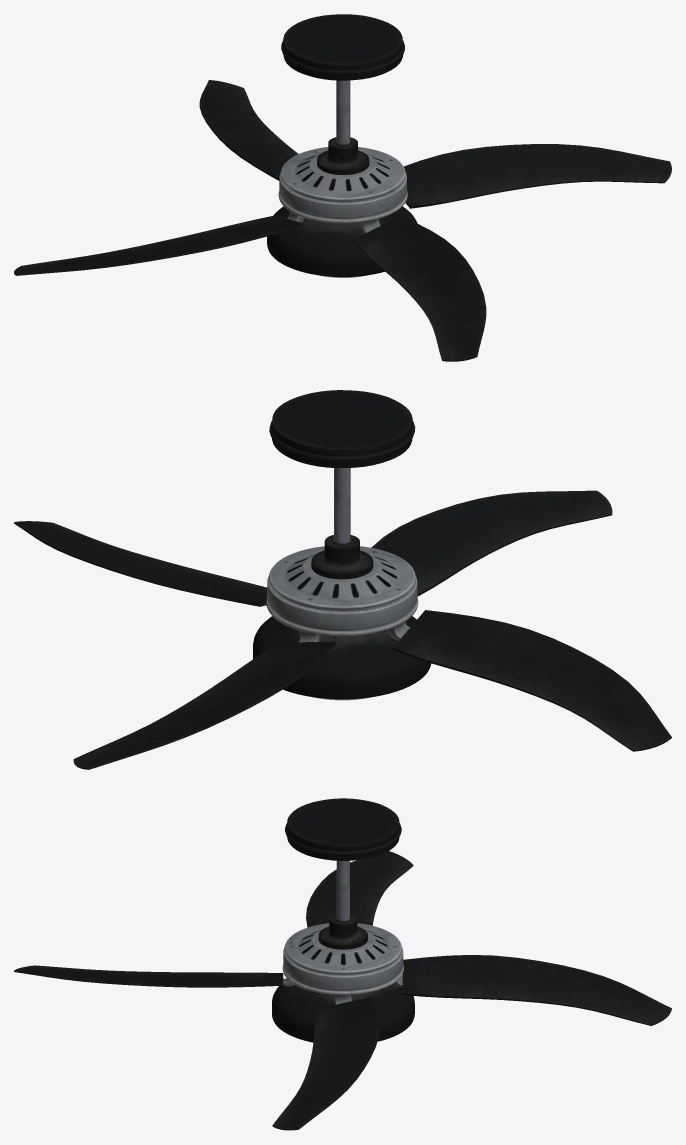
File: ceiling_fan.glb
3 views of the same model, one above another, from view 1: azimuth 30°, elevation 25°; view 2: azimuth 150°, elevation 25°; view 3: azimuth 270°, elevation 25° (orthographic). The views are drawn at different scales.
Visible parts, largest first — view 1: ceiling_fan_blades, ceiling_fan; view 2: ceiling_fan_blades, ceiling_fan; view 3: ceiling_fan_blades, ceiling_fan.
Part boxes in pixels (x1,y1,x2,y2): ceiling_fan_blades: (14,80,671,361); ceiling_fan: (267,14,417,277); ceiling_fan_blades: (14,490,671,769); ceiling_fan: (253,390,431,700); ceiling_fan_blades: (14,851,671,1130); ceiling_fan: (272,798,414,1042).
Size of the model in its own units: 1.46 by 0.5163 by 1.46.
Materials: 1 (1 with a texture image).
